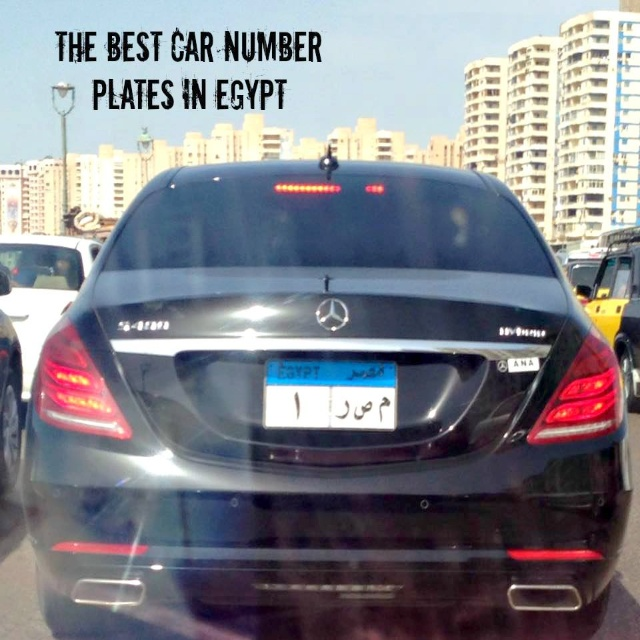License Plate: (261, 355, 401, 433)
